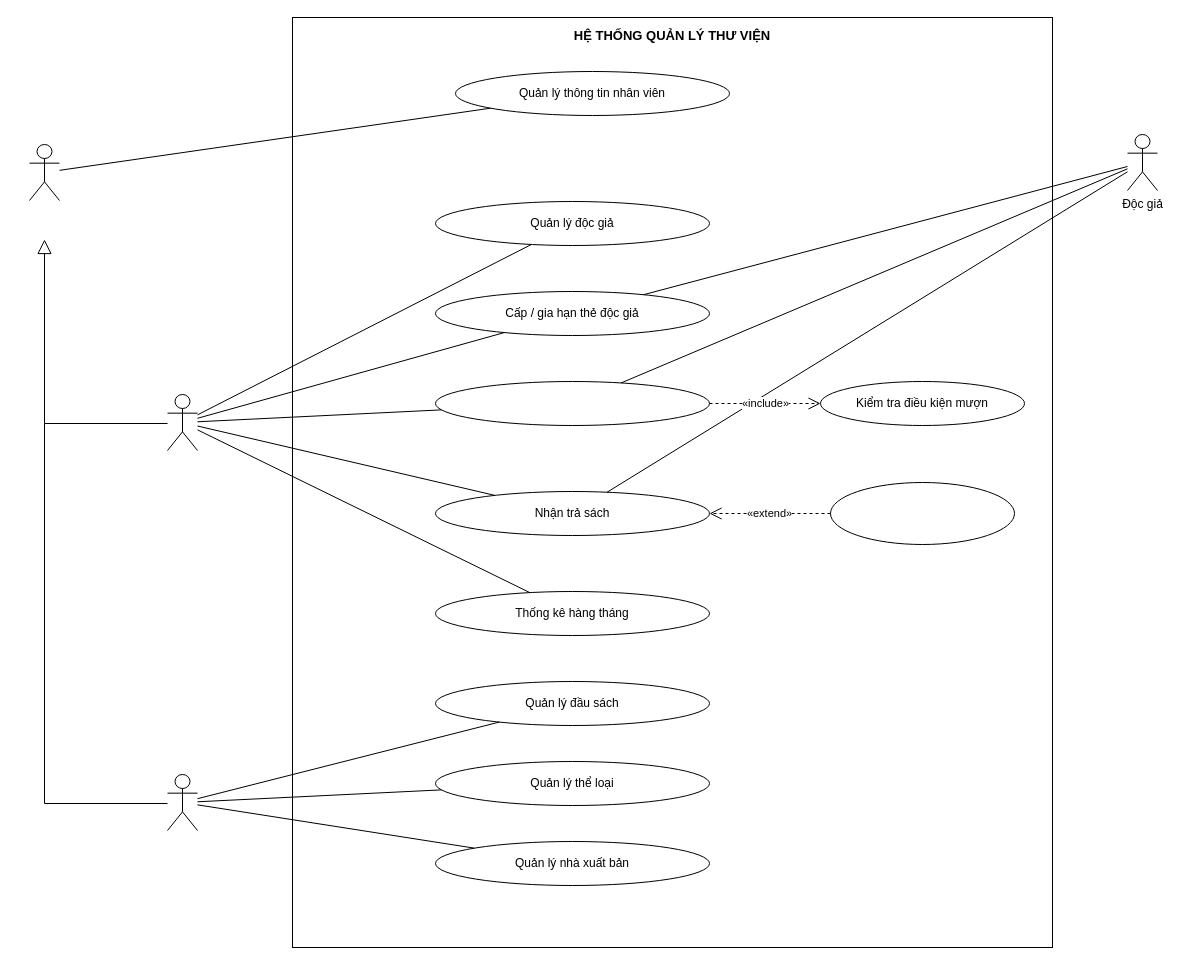
Some shapes in this 1180 by 965 pixel diagram are drawn without their labels. Each missing label, with the centre of its shape:
"Lập phiếu mượn" goes at (572,403).
"Lập phiếu phạt (trễ / mất / hư)" goes at (922,513).
"Nhân viên" goes at (44,172).
"NV quản lý sách" goes at (182,802).
"Thủ thư" goes at (182,422).
